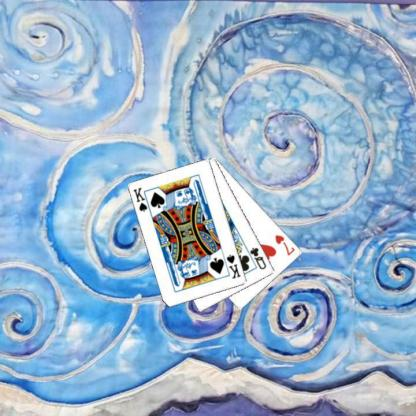7H: (273, 232, 296, 257)
KS: (131, 185, 152, 214), (224, 252, 242, 280)
QC: (247, 245, 268, 271)
